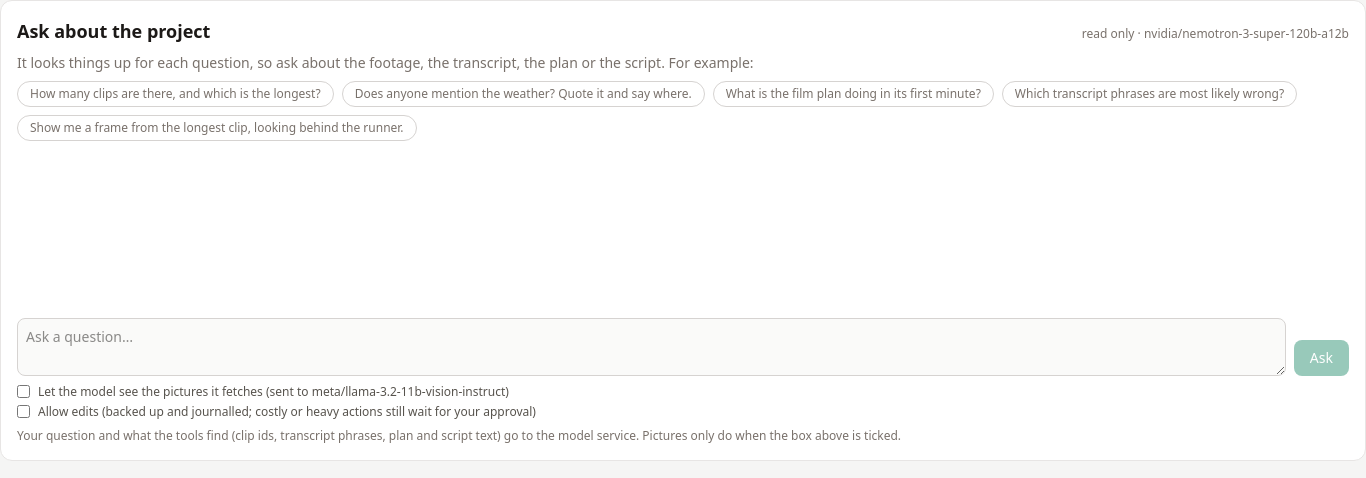
AskPage › has no accessibility violations and a labelled conversation log
This screenshot has width=1366, height=478.
Type "q" into the text box named "Your question". click: (651, 347)
box: [17, 318, 1286, 376]
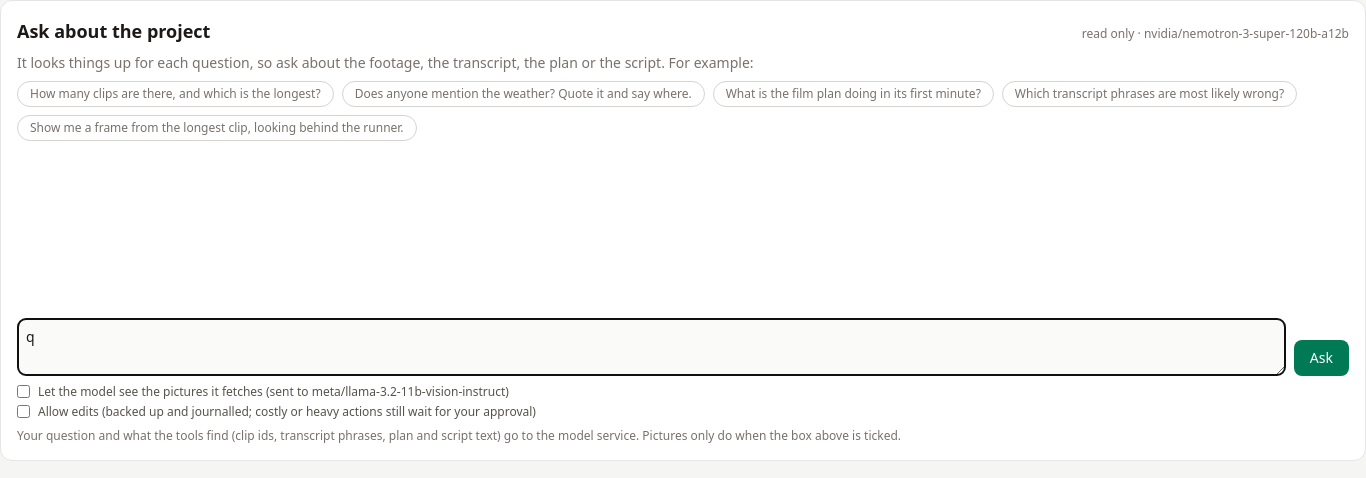
Click the button "Ask". click: (1321, 358)
box: [1294, 340, 1349, 376]
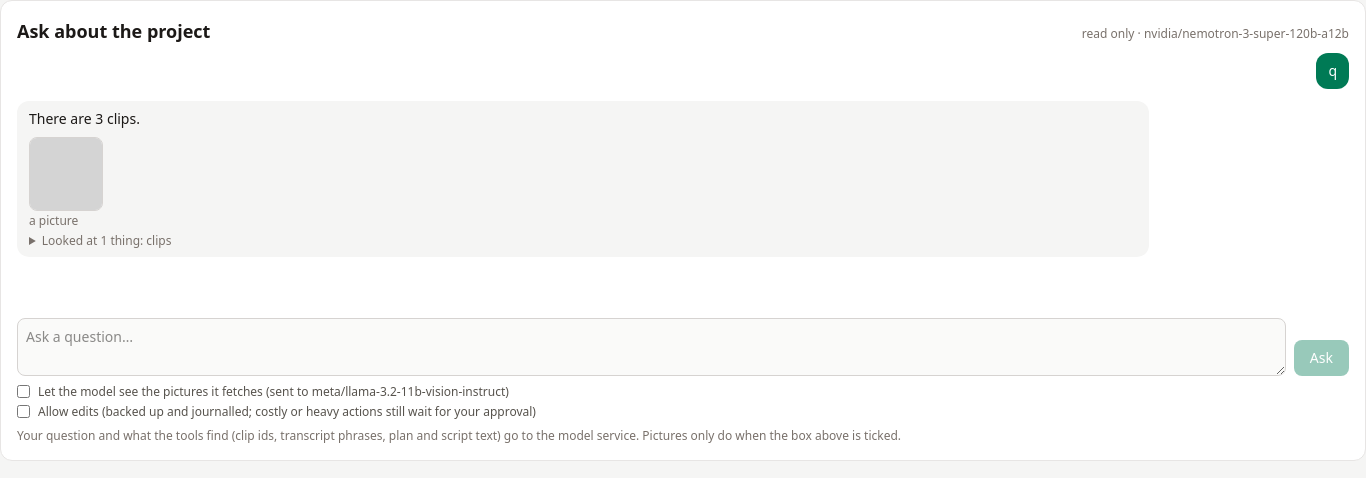
Now the text "There are 3 clips." is shown, box [29, 109, 140, 128]
